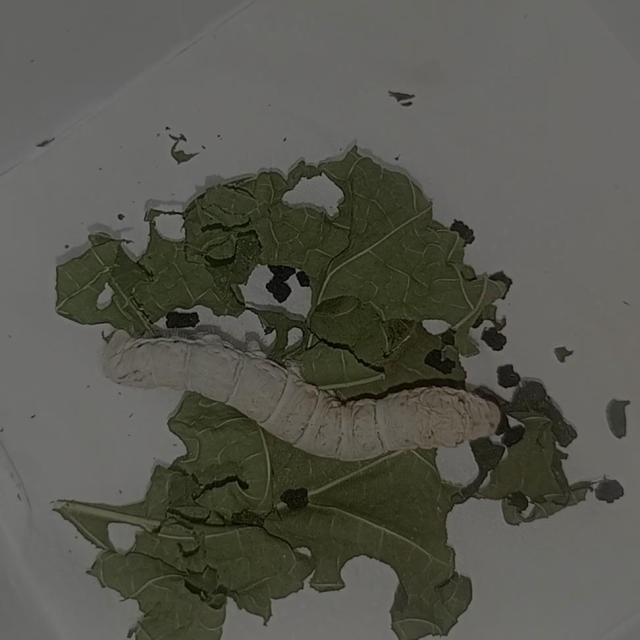Healthy: (98, 317, 508, 477)
